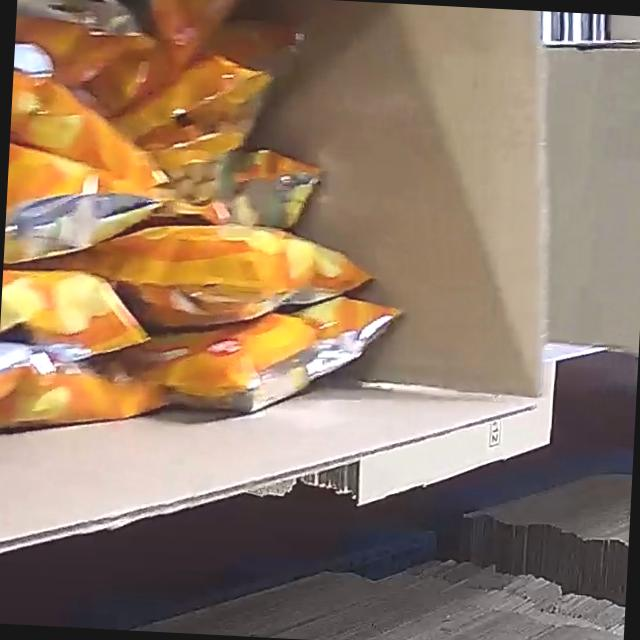cheese: (0, 0, 418, 512)
